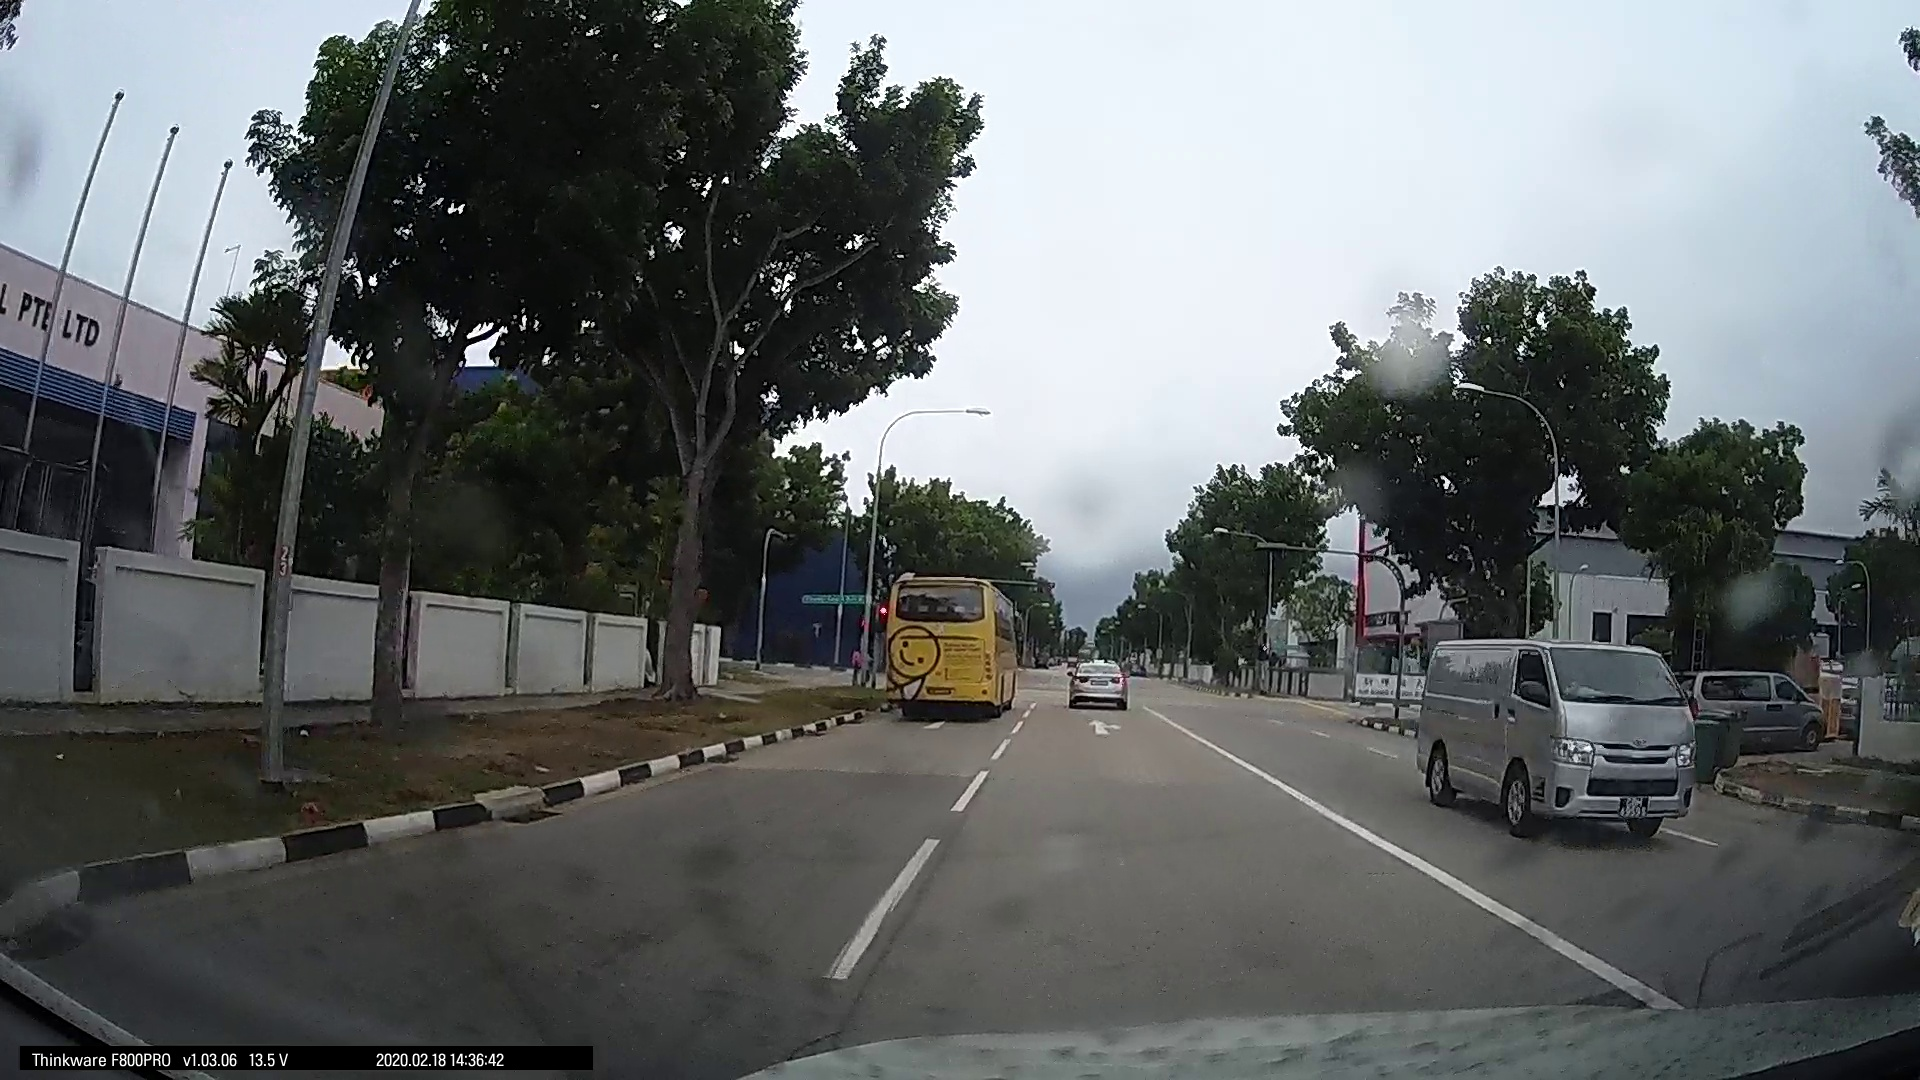Heavy Vehicle: (874, 566, 1019, 731)
Light Vehicle: (1404, 626, 1700, 840), (1691, 661, 1824, 756), (1063, 653, 1127, 712)
